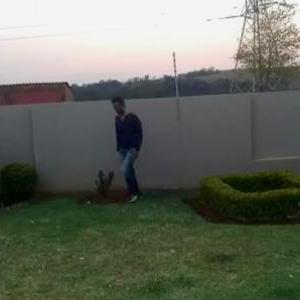follow: (115, 96, 147, 200)
